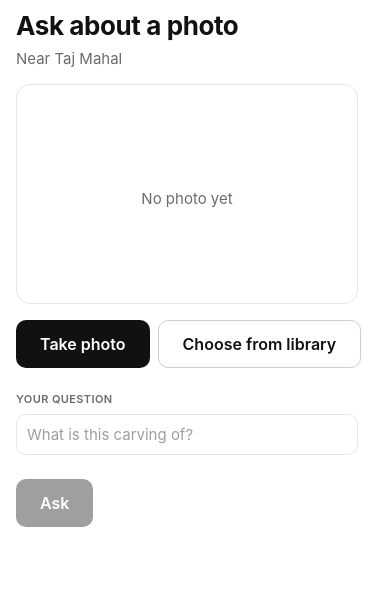
PhotoQAScreen › shows a permission-denied message without crashing when camera access is refused
Click the button with test id "capture-photo-button".
click(83, 344)  # box [16,320,150,368]
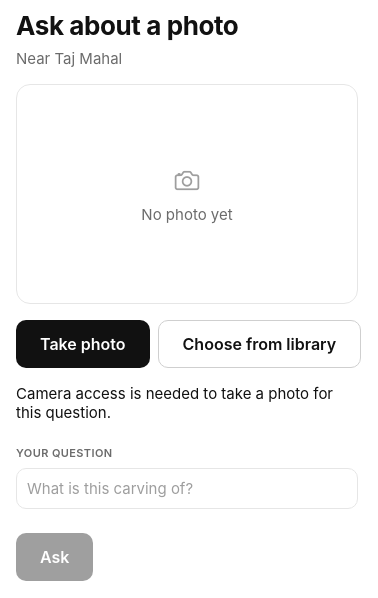
Now the text "Camera access is needed to take a photo for this question." is shown, box [16,384,358,422]
